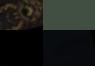bar: (43, 0, 95, 30)
crimera: (0, 0, 43, 30)
